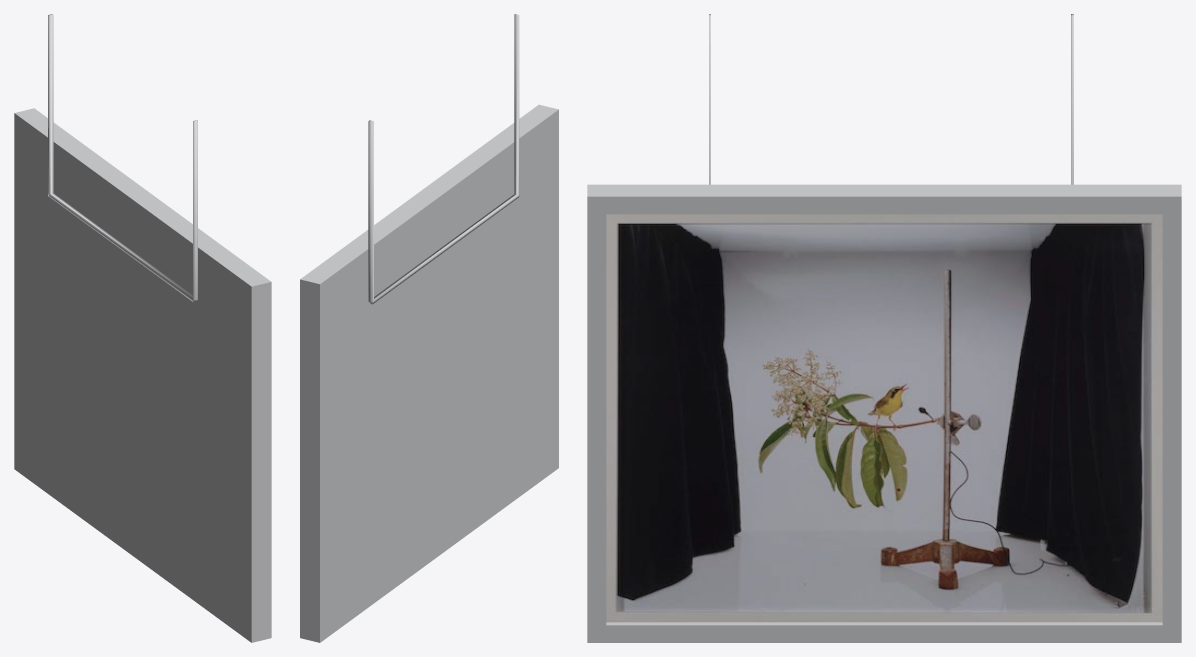
3 renders of one model, left to right at view 1: azimuth 30°, elevation 25°; view 2: azimuth 150°, elevation 25°; view 3: azimuth 270°, elevation 25°, orthographic. The views are drawn at different scales.
Visible parts, largest first — view 1: M0242700; view 2: M0242700; view 3: M0242700.
Boxes of the visible parts, box(x1,y1,x2,y2) form: M0242700: box(14, 14, 271, 642); M0242700: box(300, 14, 558, 642); M0242700: box(587, 14, 1181, 642).
Size of the model in its own units: 0.2293 by 3.66 by 3.22.
Materials: 2 (1 with a texture image).
